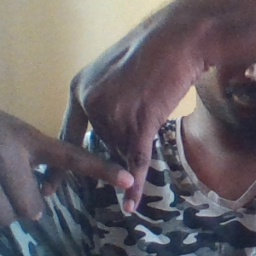H: (35, 87, 155, 214)
